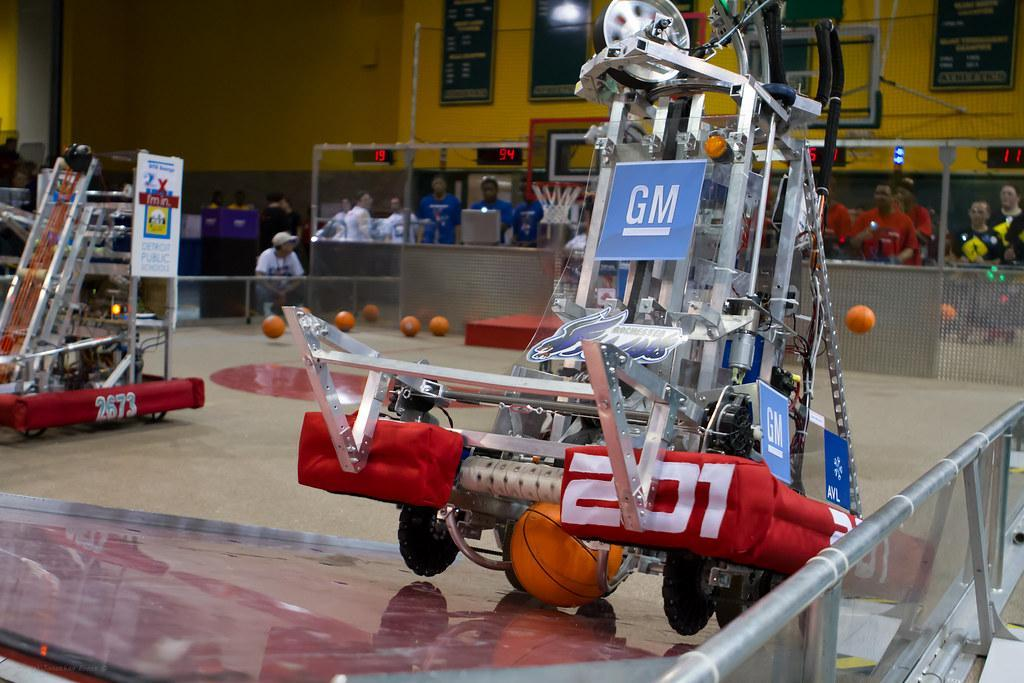robot: (287, 0, 939, 631), (0, 138, 211, 450)
